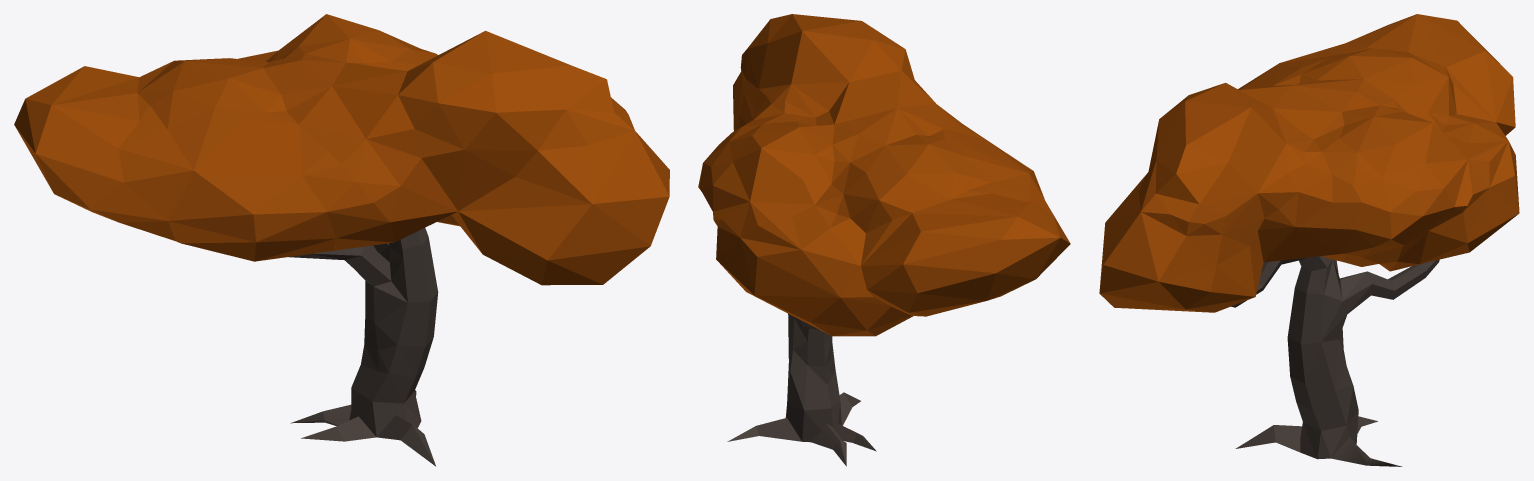
The model's file is SM_Oak_02.fbx.
3 views of the same model, side by side, from view 1: azimuth 30°, elevation 25°; view 2: azimuth 150°, elevation 25°; view 3: azimuth 270°, elevation 25° (orthographic). The views are drawn at different scales.
Parts seen in each view (by area): view 1: SM_Oak_02; view 2: SM_Oak_02; view 3: SM_Oak_02.
Boxes of the visible parts, x1,y1,x2,y2 form: SM_Oak_02: [14, 14, 669, 466]; SM_Oak_02: [698, 14, 1070, 466]; SM_Oak_02: [1099, 14, 1519, 466].
Size of the model in its own units: 1529 by 1203 by 1248.
